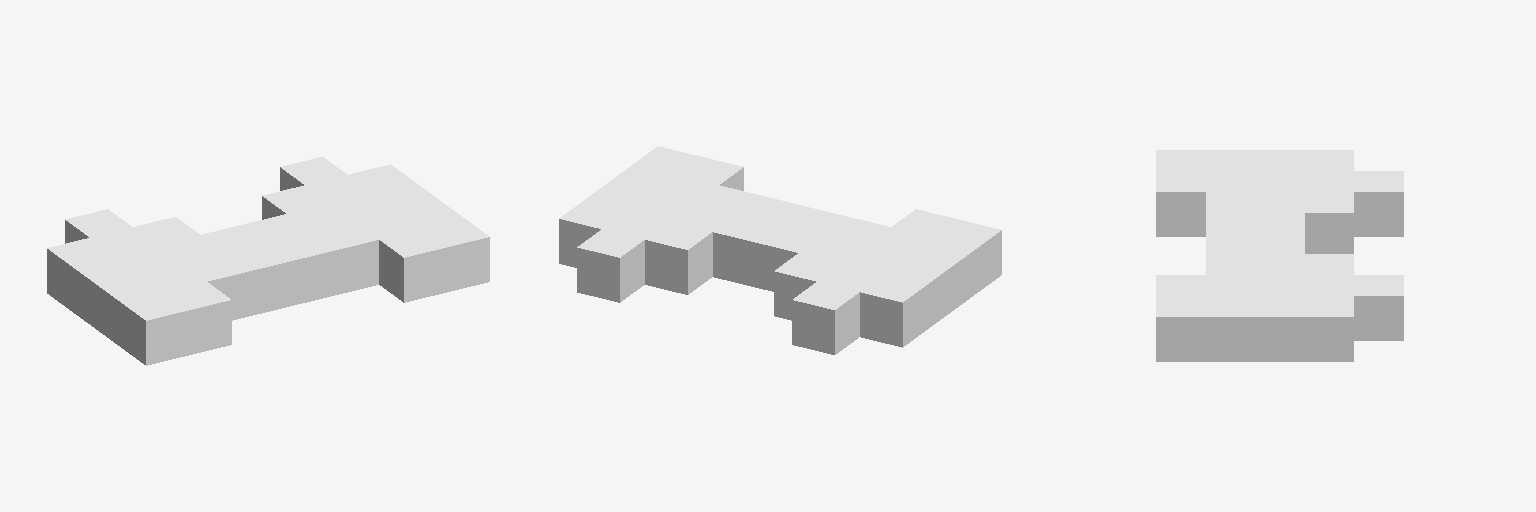
Rendered from PSHand.obj.
The picture shows the model from 3 angles: view 1: azimuth 30°, elevation 25°; view 2: azimuth 150°, elevation 25°; view 3: azimuth 270°, elevation 25°; orthographic projection.
Visible parts, largest first — view 1: object 1; view 2: object 1; view 3: object 1.
Part boxes in pixels (bbox=[...]): object 1: bbox=[47, 157, 489, 365]; object 1: bbox=[559, 146, 1001, 354]; object 1: bbox=[1156, 150, 1403, 361].
Size of the model in its own units: 0.8 by 0.1 by 0.5.